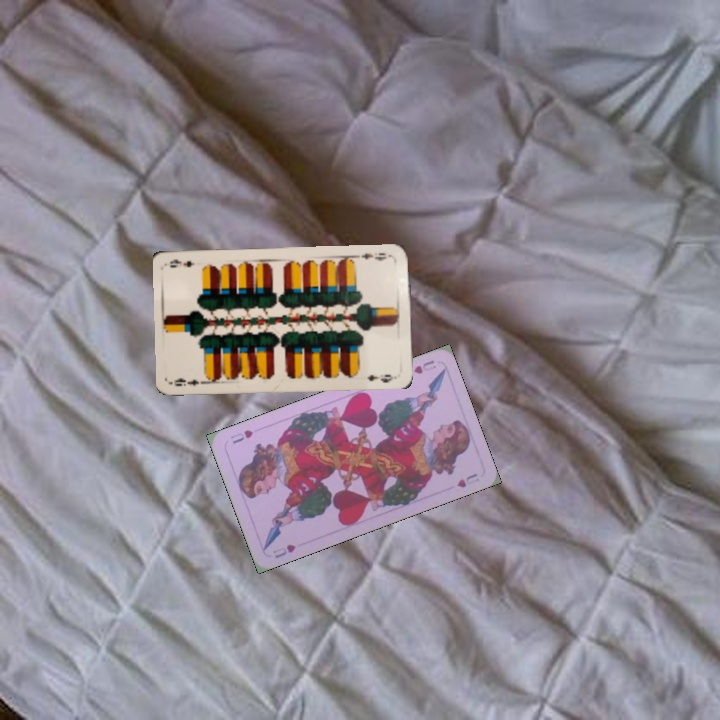E9: (170, 372, 210, 389), (357, 249, 395, 263)
HU: (409, 356, 439, 377), (269, 540, 298, 561)
